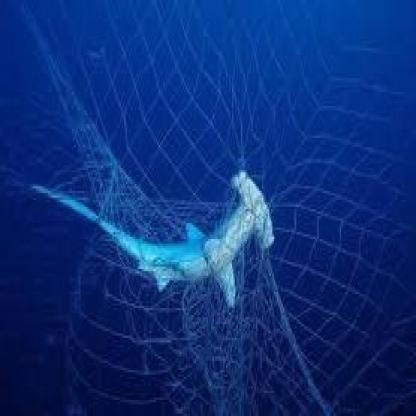net: (76, 2, 416, 416)
